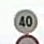limite 40: (12, 8, 37, 34)
